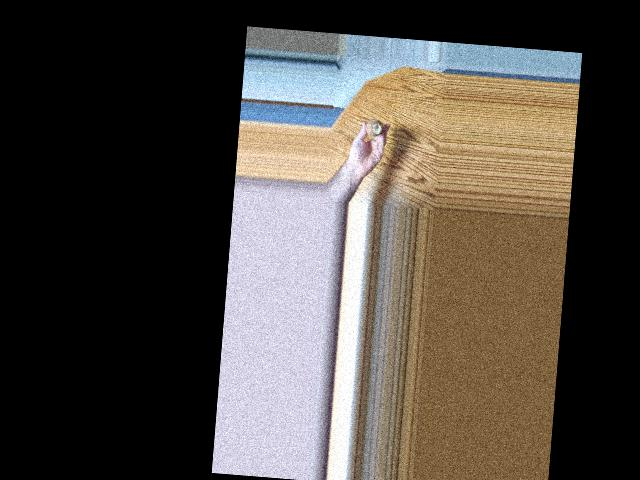sweet_potato: (363, 118, 383, 135)
